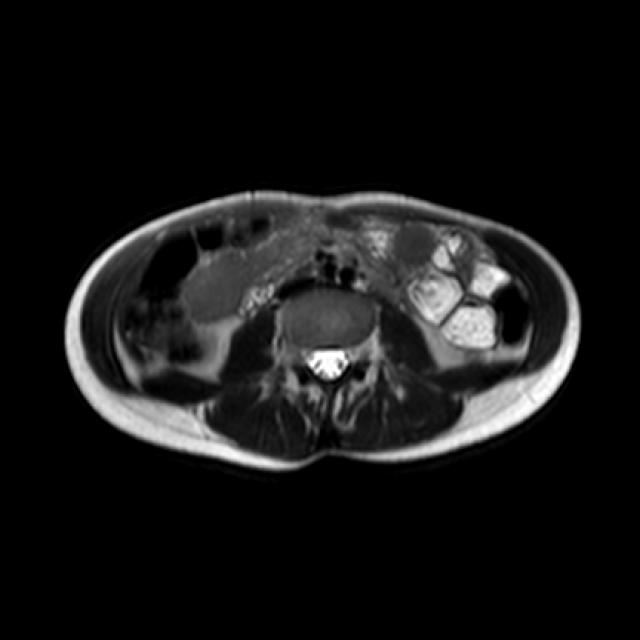sol: (461, 348, 487, 363)
